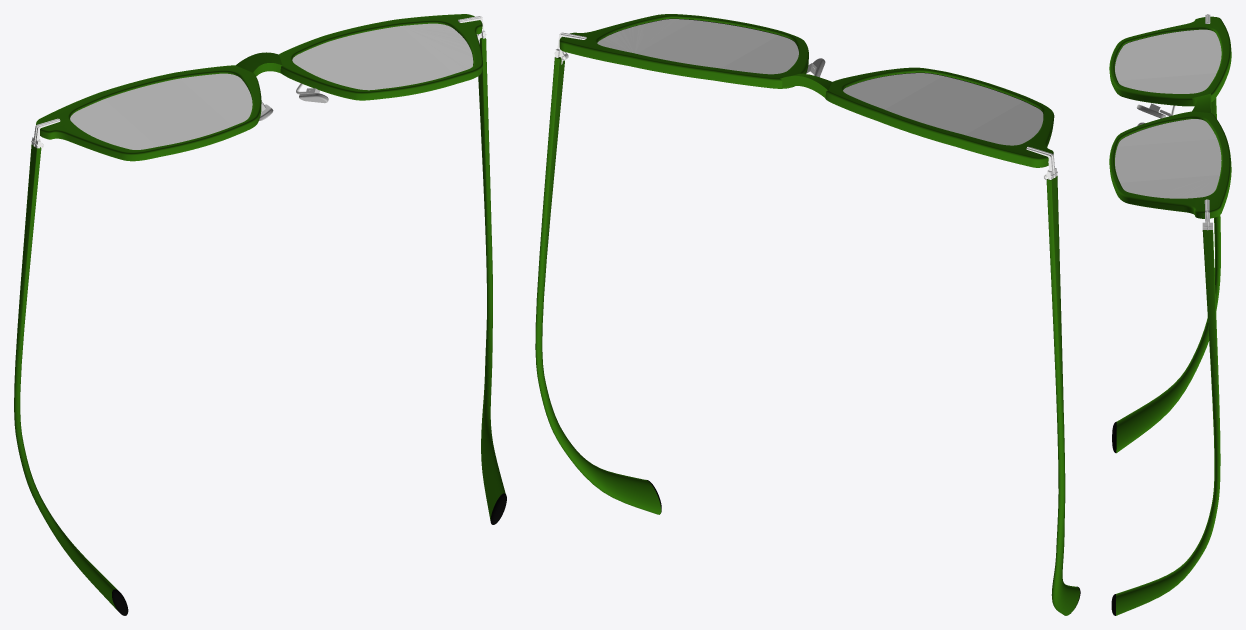
The model's file is clubmaster-green.glb.
3 views of the same model, side by side, from view 1: azimuth 30°, elevation 25°; view 2: azimuth 150°, elevation 25°; view 3: azimuth 270°, elevation 25° (orthographic). The views are drawn at different scales.
Parts seen in each view (by area): view 1: imagetostl_mesh7, imagetostl_mesh14, imagetostl_mesh0; view 2: imagetostl_mesh7, imagetostl_mesh14; view 3: imagetostl_mesh7, imagetostl_mesh14, imagetostl_mesh0, imagetostl_mesh1.
Boxes of the visible parts, bbox=[...] form: imagetostl_mesh7: bbox=[14, 14, 505, 610]; imagetostl_mesh14: bbox=[70, 23, 473, 149]; imagetostl_mesh0: bbox=[112, 32, 506, 615]; imagetostl_mesh7: bbox=[535, 14, 1079, 615]; imagetostl_mesh14: bbox=[597, 19, 1043, 145]; imagetostl_mesh7: bbox=[1109, 16, 1231, 615]; imagetostl_mesh14: bbox=[1115, 29, 1221, 198]; imagetostl_mesh0: bbox=[1111, 30, 1193, 615]; imagetostl_mesh1: bbox=[1149, 14, 1212, 230].
Size of the model in its own units: 2.24 by 2.15 by 0.5442.
4 materials, 4 textured.
